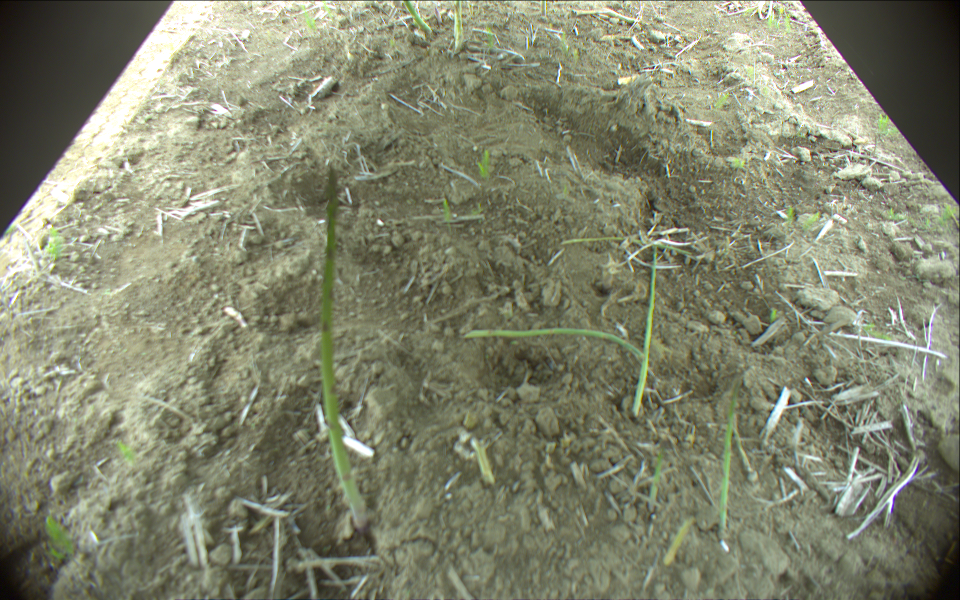aspa: (319, 166, 367, 529), (464, 329, 644, 360), (630, 245, 658, 417), (720, 366, 747, 539), (564, 240, 700, 258), (663, 519, 696, 567), (573, 8, 645, 24), (470, 436, 493, 484), (649, 451, 663, 511), (403, 1, 429, 32), (452, 1, 463, 48), (541, 1, 548, 16)
